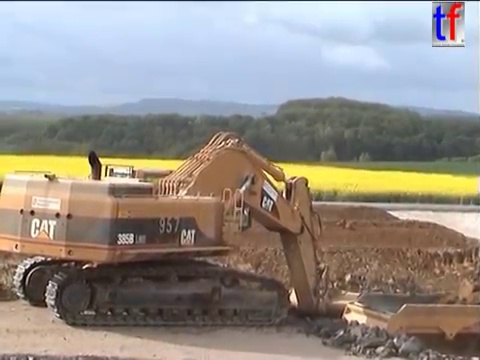excavator: (1, 128, 346, 331)
truck: (339, 291, 480, 360), (284, 284, 413, 359)
